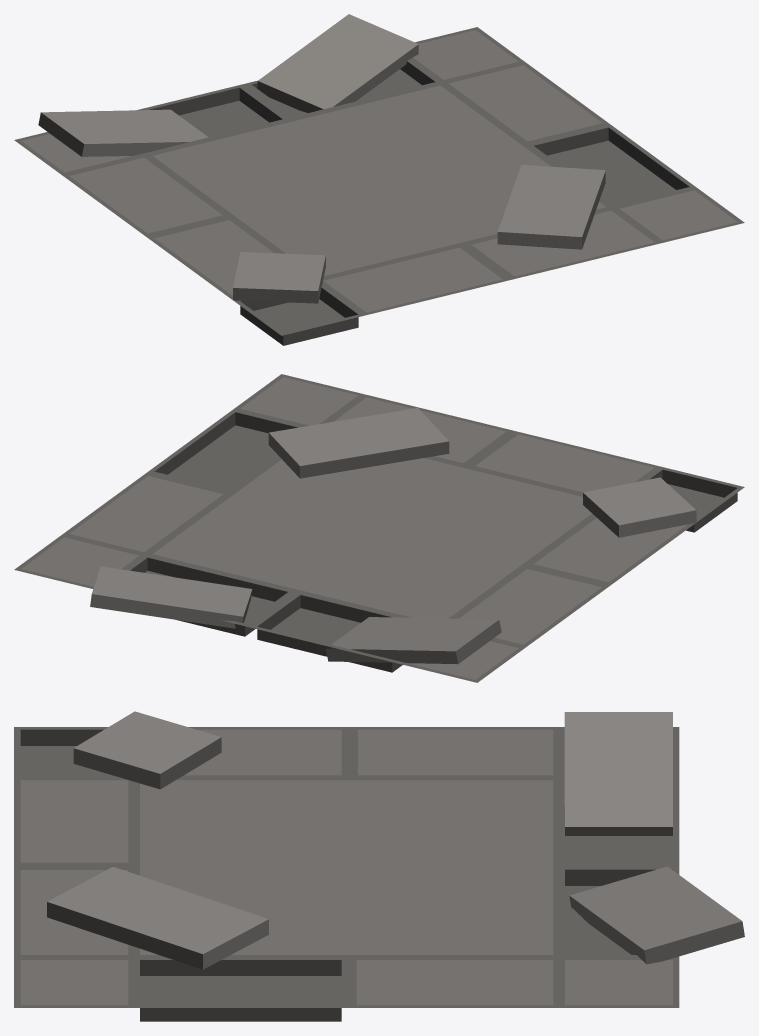
Rendered from SD_Env_Floor_Stone_Broken_03.fbx.
3 renders of one model, top to bottom at view 1: azimuth 30°, elevation 25°; view 2: azimuth 150°, elevation 25°; view 3: azimuth 270°, elevation 25°, orthographic. The views are drawn at different scales.
Parts seen in each view (by area): view 1: SD_Env_Floor_Stone_Broken_03; view 2: SD_Env_Floor_Stone_Broken_03; view 3: SD_Env_Floor_Stone_Broken_03.
Boxes of the visible parts, left/top/right/bottom form: SD_Env_Floor_Stone_Broken_03: left=14, top=14, right=744, bottom=345; SD_Env_Floor_Stone_Broken_03: left=14, top=374, right=744, bottom=682; SD_Env_Floor_Stone_Broken_03: left=14, top=711, right=744, bottom=1021.
Bounding box in the file's own units: 5 × 0.4252 × 5.49.
